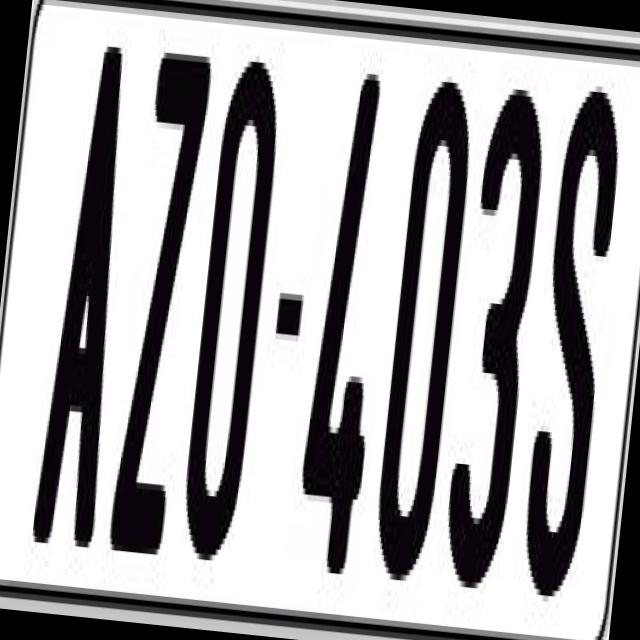0: (176, 53, 294, 575), (366, 80, 478, 618)
3: (436, 86, 554, 608)
4: (288, 70, 402, 580)
A: (28, 43, 152, 560)
S: (512, 71, 630, 604)
Z: (103, 46, 216, 566)
